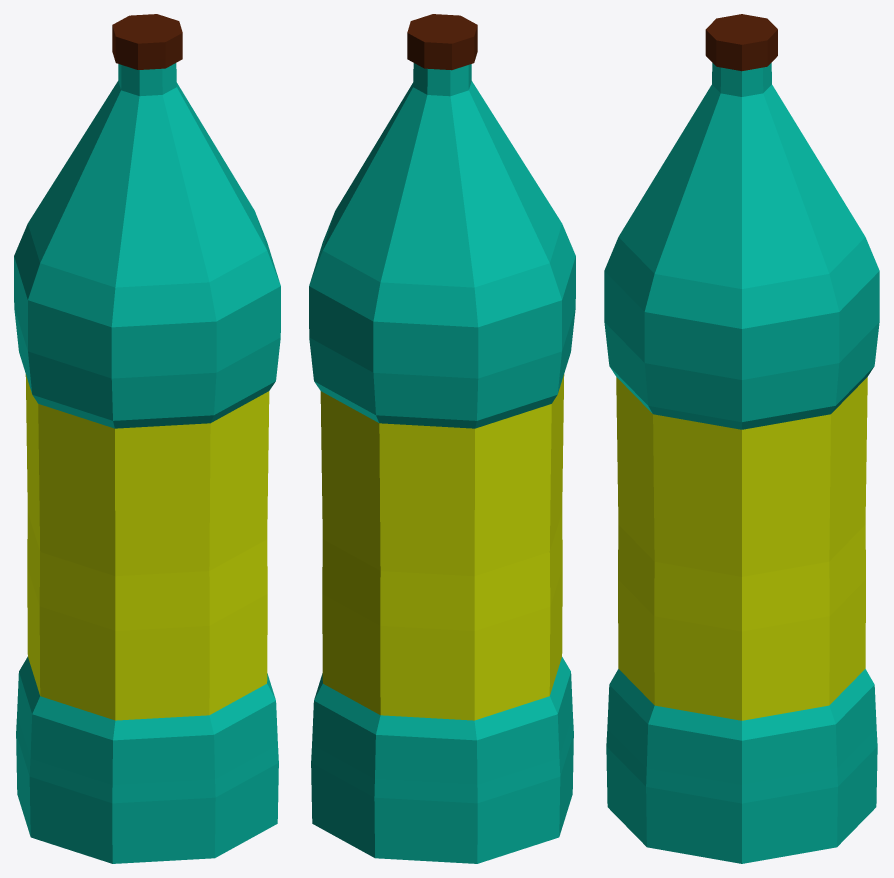
The model's file is SodaBottle_SH.fbx.
The picture shows the model from 3 angles, left to right: view 1: azimuth 30°, elevation 25°; view 2: azimuth 150°, elevation 25°; view 3: azimuth 270°, elevation 25°; orthographic projection.
Visible parts, largest first — view 1: SodaBottle_SH; view 2: SodaBottle_SH; view 3: SodaBottle_SH.
Boxes of the visible parts, x1=… form: SodaBottle_SH: x1=14, y1=14, x2=280, y2=863; SodaBottle_SH: x1=309, y1=14, x2=575, y2=863; SodaBottle_SH: x1=604, y1=14, x2=879, y2=863.
Bounding box in the file's own units: 15.39 × 47.96 × 15.39.
